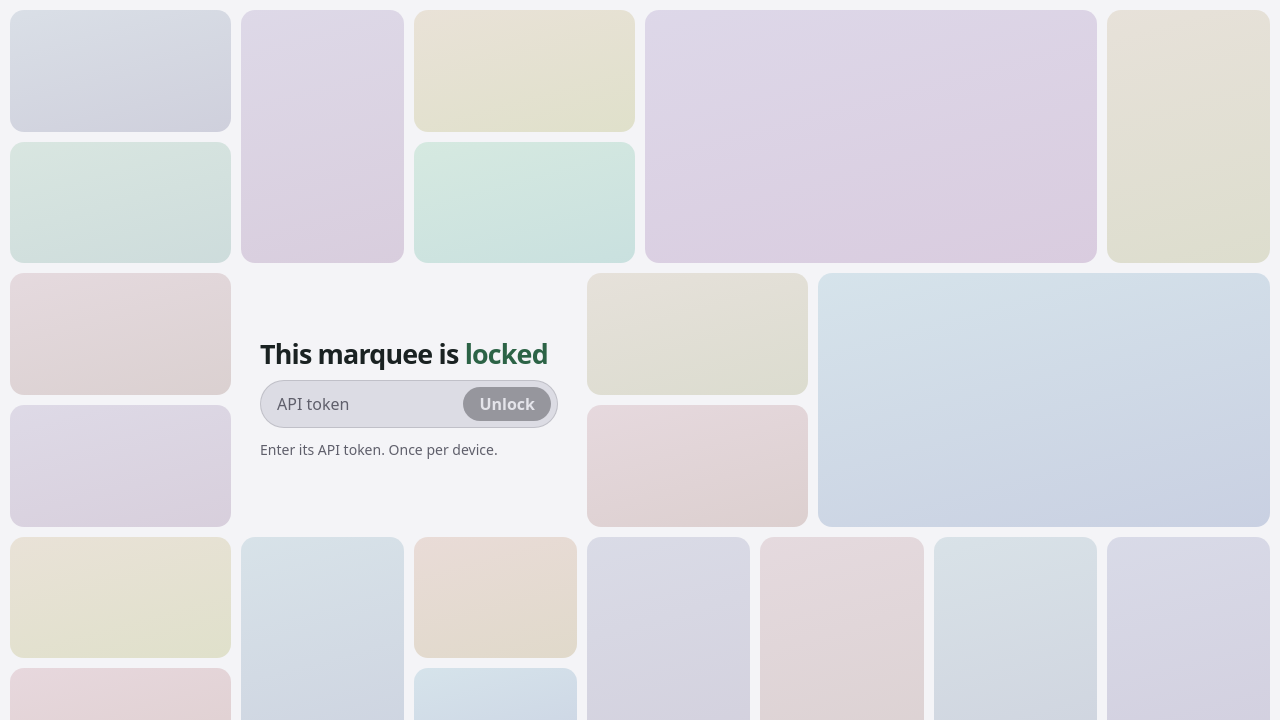
Test: a click on the wall focuses the field and says what to do, in a calm line
Click the 1st element with class "utile". click: point(120, 71)
box: [5,5,236,137]
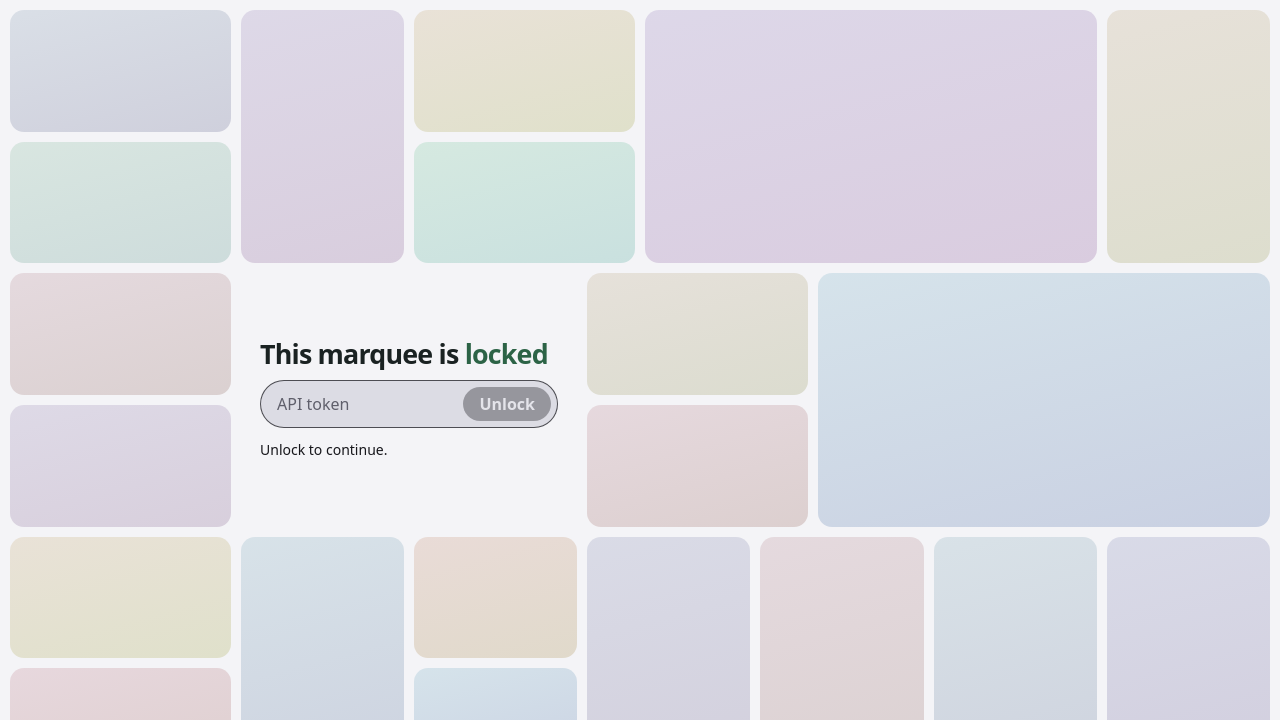
Expected: the message reads "Unlock to continue.", [260,440,387,459]
